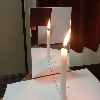fire: (63, 29, 71, 51)
